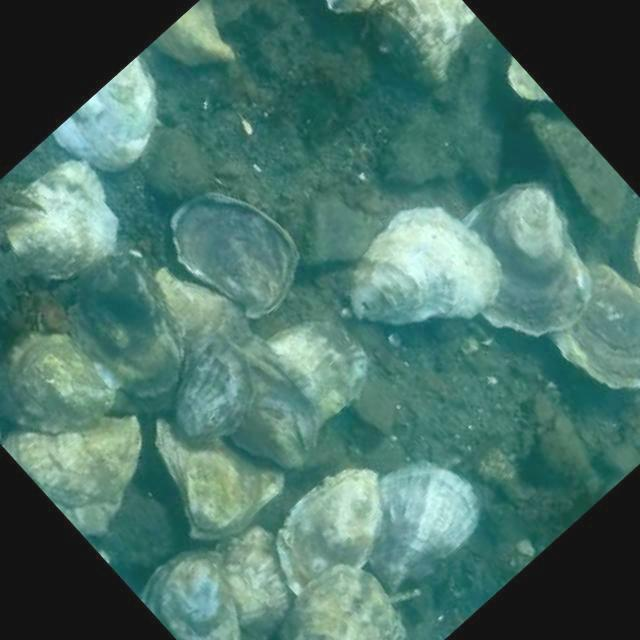Oyster-Closed: (462, 180, 592, 334), (349, 202, 500, 321), (0, 412, 142, 535), (170, 191, 298, 319), (69, 252, 182, 395), (155, 416, 283, 536), (368, 458, 479, 594), (0, 157, 117, 277), (276, 467, 380, 593), (53, 53, 155, 172), (546, 261, 640, 389), (234, 333, 322, 468), (0, 327, 114, 431), (199, 524, 293, 640), (266, 320, 367, 423), (274, 563, 399, 640), (362, 0, 475, 84), (170, 328, 254, 441), (140, 548, 241, 640), (156, 265, 249, 351), (150, 0, 230, 64)
Oyster-Open: (526, 113, 628, 225)
